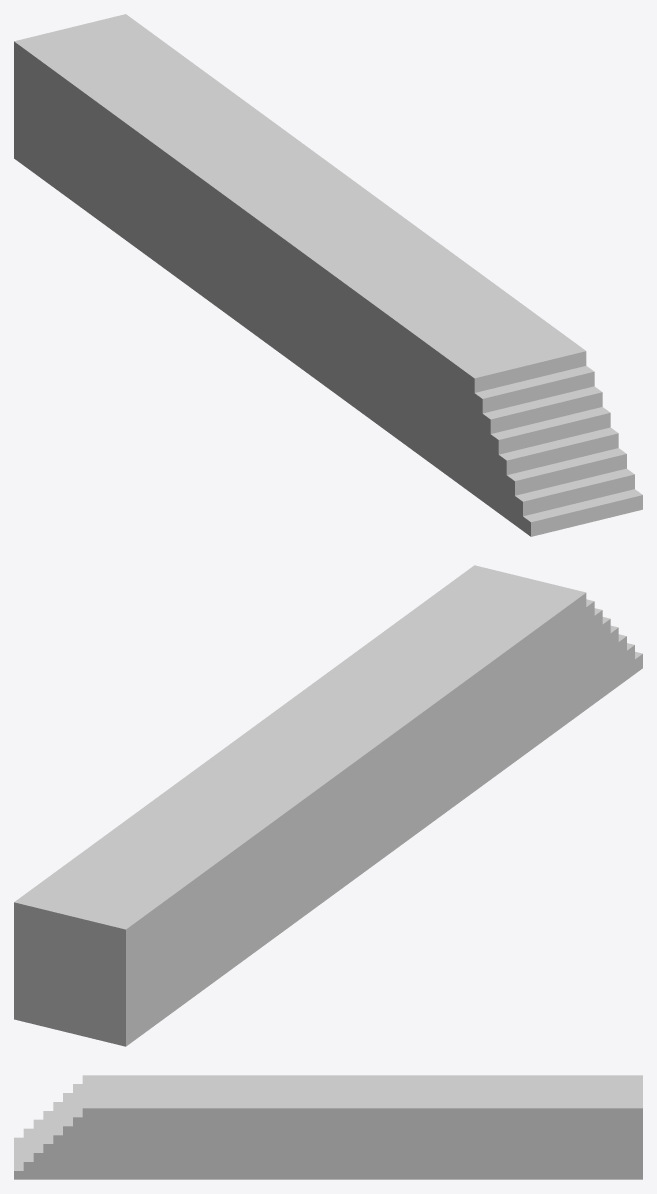
The model's file is rocks02.fbx.
The picture shows the model from 3 angles, top to bottom: view 1: azimuth 30°, elevation 25°; view 2: azimuth 150°, elevation 25°; view 3: azimuth 270°, elevation 25°; orthographic projection. The views are drawn at different scales.
Parts seen in each view (by area): view 1: color_; view 2: color_; view 3: color_.
Part boxes in pixels (bbox=[...]): color_: bbox=[14, 14, 642, 536]; color_: bbox=[14, 565, 642, 1046]; color_: bbox=[14, 1075, 642, 1179].
Size of the model in its own units: 8 by 8 by 64.
1 material, 1 textured.
